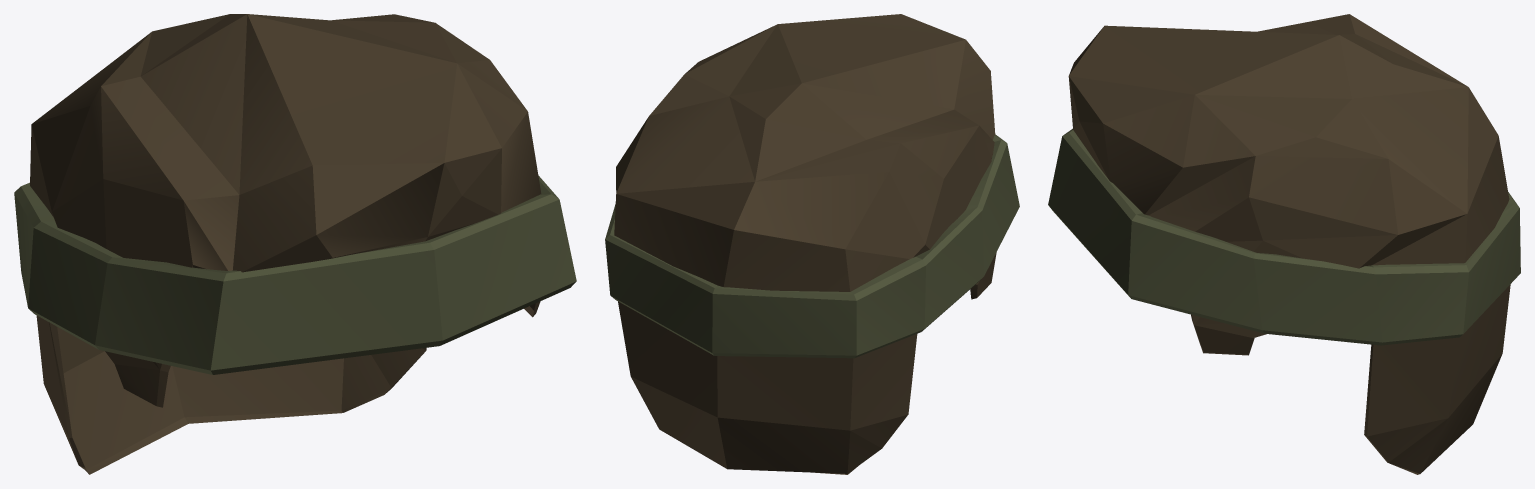
The model's file is Hair_03_SM.FBX.
The picture shows the model from 3 angles, left to right: view 1: azimuth 30°, elevation 25°; view 2: azimuth 150°, elevation 25°; view 3: azimuth 270°, elevation 25°; orthographic projection. The views are drawn at different scales.
Visible parts, largest first — view 1: Hair_03_SM; view 2: Hair_03_SM; view 3: Hair_03_SM.
Part boxes in pixels (x1,y1,x2,y2): Hair_03_SM: (14, 14, 576, 474); Hair_03_SM: (605, 14, 1019, 474); Hair_03_SM: (1048, 14, 1520, 474).
Size of what is drawn, in the model's own units: 21.37 by 24.77 by 22.13.
